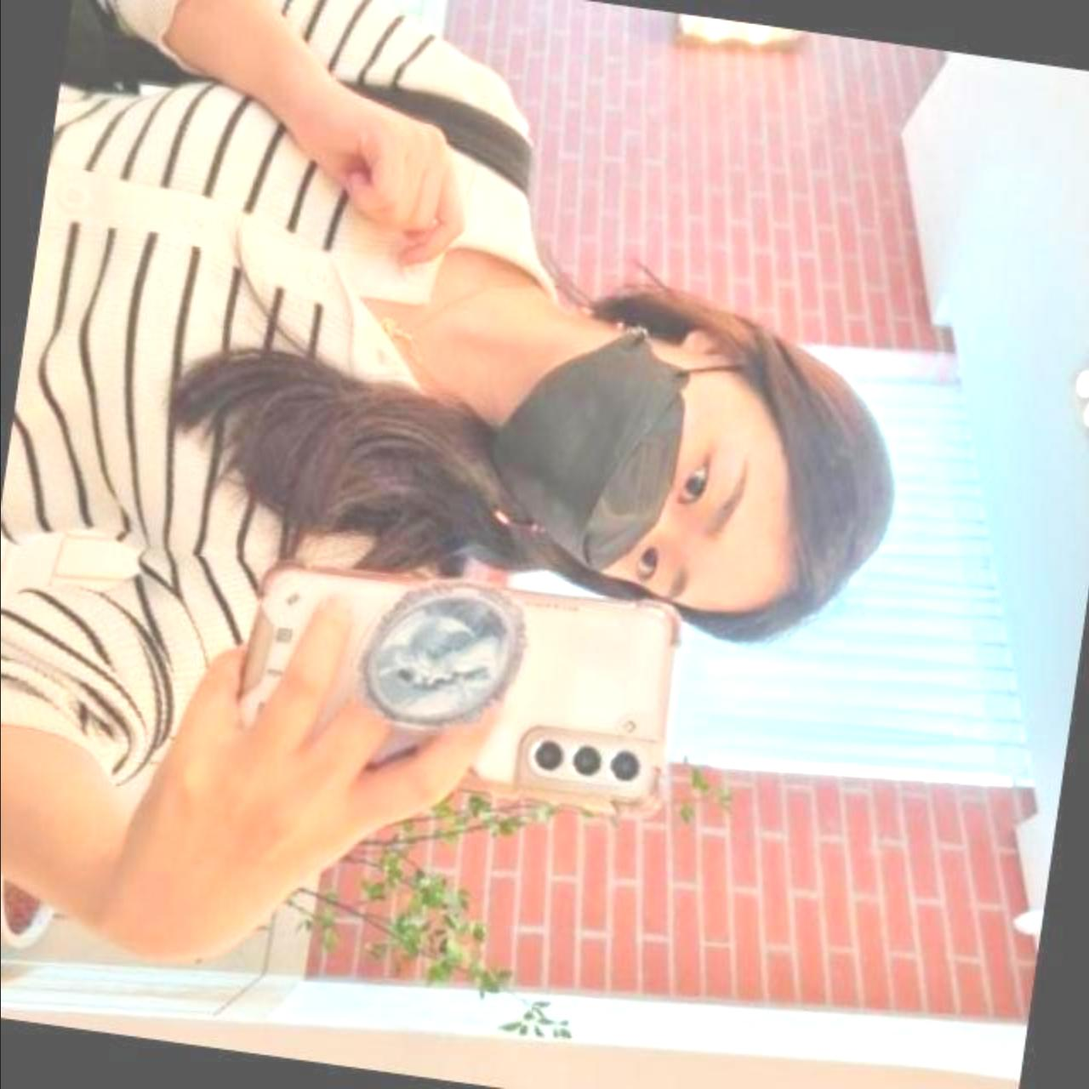phone: (209, 544, 699, 834)
